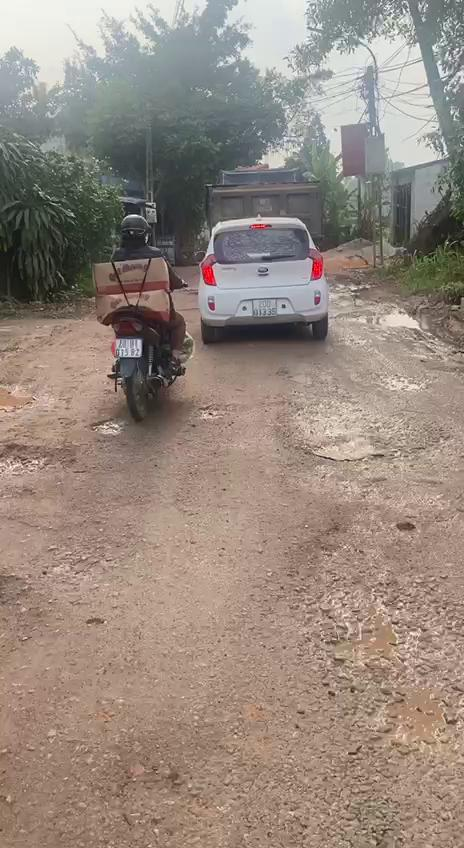pothole: (302, 533, 464, 772), (0, 528, 135, 651), (282, 403, 457, 461), (0, 442, 83, 475), (0, 378, 44, 414), (193, 403, 235, 422), (90, 419, 126, 434)
